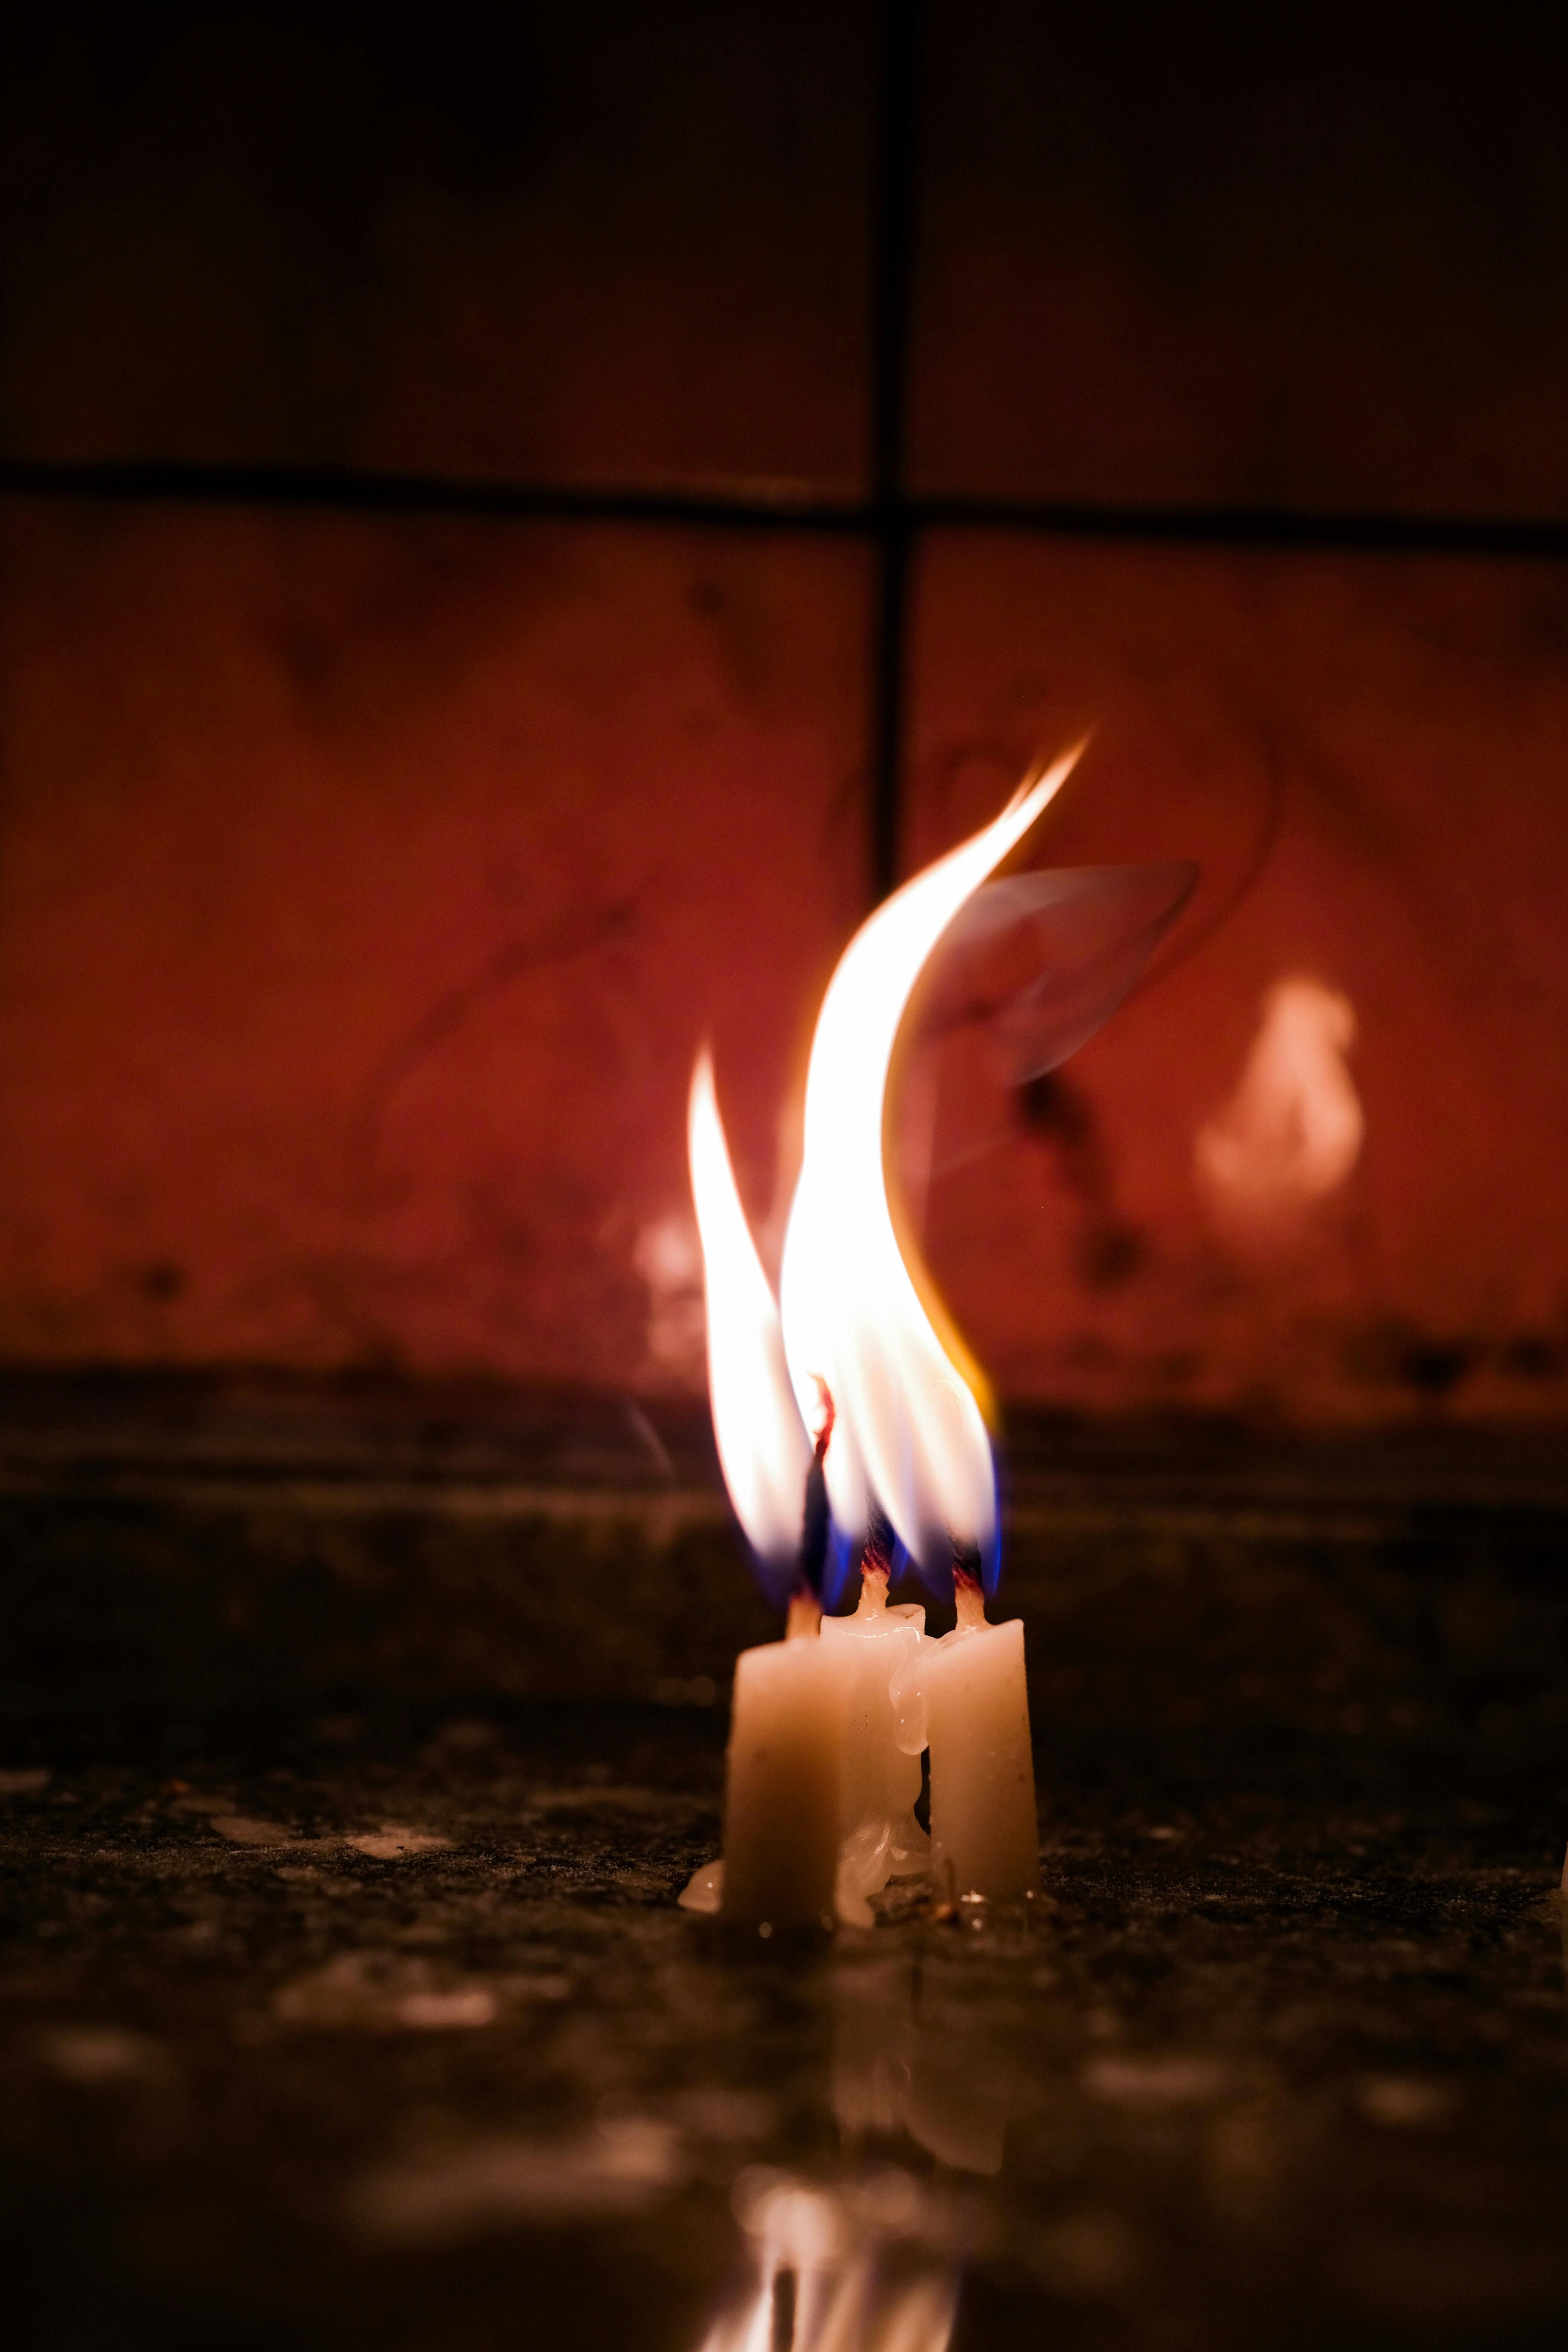Fire: (793, 728, 1157, 1641), (637, 1034, 782, 1624)
